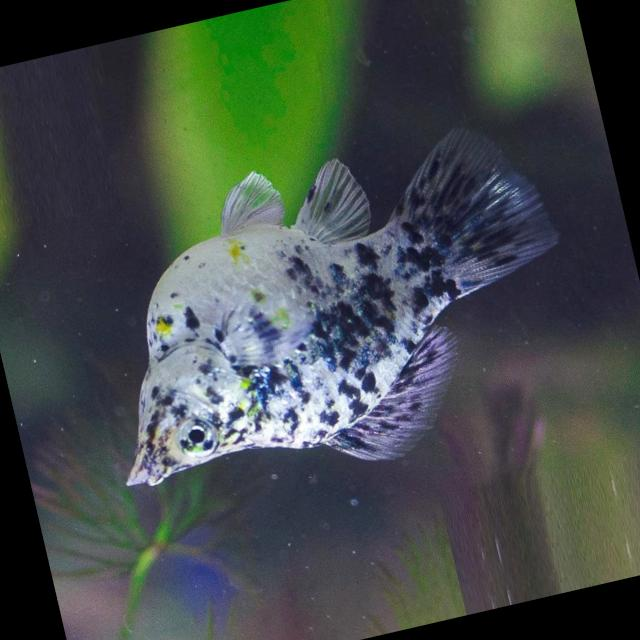PlatyFish: (62, 114, 587, 508)
